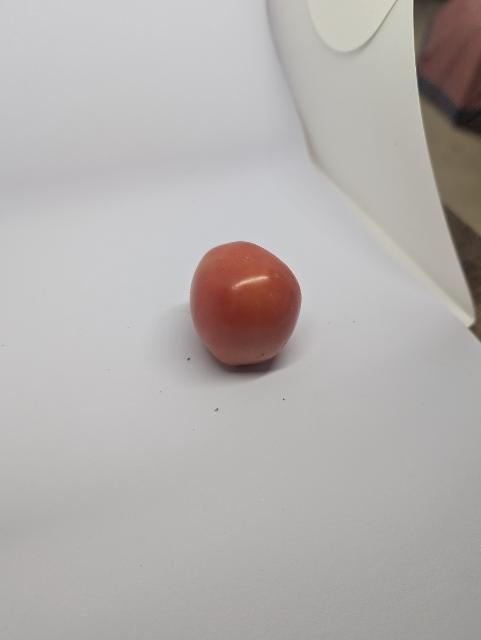red: (174, 224, 327, 382)
